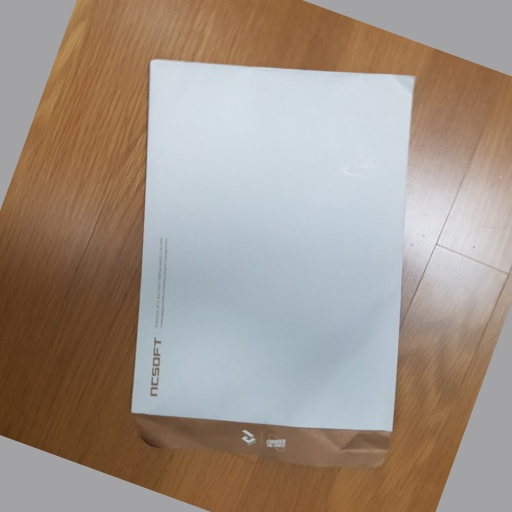Paper_2: (127, 49, 419, 484)
